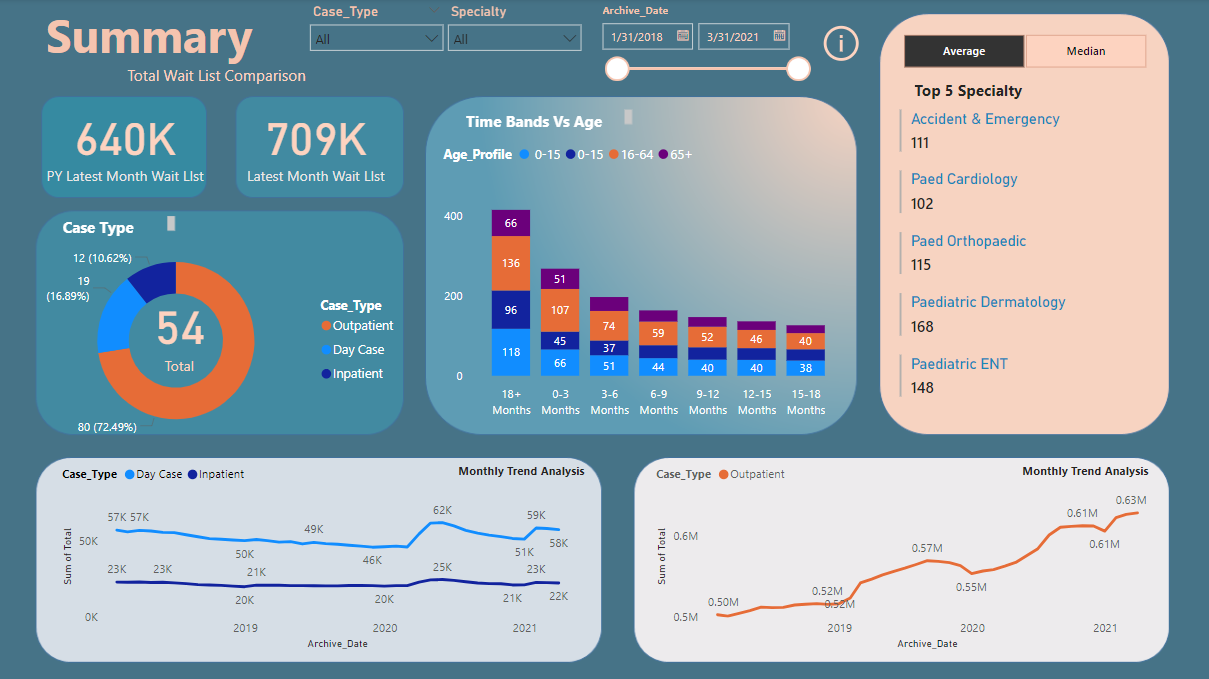

This screenshot's page, from the dashboard's own definition file:
{"tool":"powerbi","page":{"name":"Summary","canvas":[1280,720],"ordinal":0},"visuals":[{"type":"card","fields":{"Values":["All_data.Latest Month Wakit LIst"]},"box":[240,96,192,112],"z":0},{"type":"card","fields":{"Values":["All_data.PY Latest Month Wait LIst"]},"box":[48,96,176,112],"z":1000},{"type":"slicer","fields":{"Values":["Calculated Method.Calc method"]},"box":[928,32,304,48],"z":2000},{"type":"donutChart","fields":{"Category":["All_data.Case_Type"],"Y":["All_data.Avg/Med Wait List"]},"box":[32,240,400,240],"z":3000},{"type":"columnChart","title":"Time_Bands Vs Age_Profile","fields":{"Category":["All_data.Time_Bands"],"Y":["All_data.Avg/Med Wait List"],"Series":["All_data.Age_Profile"]},"box":[464,144,432,304],"z":4000},{"type":"multiRowCard","fields":{"Values":["All_data.Specialty","All_data.Avg/Med Wait List"]},"box":[944,112,272,336],"z":5000},{"type":"card","fields":{"Values":["All_data.1 NoDataLeft"]},"box":[168,504,312,144],"z":5500},{"type":"lineChart","fields":{"Category":["All_data.Archive_Date"],"Y":["Sum(All_data.Total)"],"Series":["All_data.Case_Type"]},"box":[64,480,544,208],"z":6000},{"type":"card","fields":{"Values":["All_data.NoDataright"]},"box":[792,504,312,144],"z":7000},{"type":"lineChart","fields":{"Category":["All_data.Archive_Date"],"Y":["Sum(All_data.Total)"],"Series":["All_data.Case_Type"]},"box":[688,480,528,208],"z":8000},{"type":"slicer","fields":{"Values":["All_data.Archive_Date"]},"box":[624,0,240,96],"z":9000},{"type":"slicer","fields":{"Values":["All_data.Case_Type"]},"box":[320,0,160,64],"z":10000},{"type":"slicer","fields":{"Values":["All_data.Specialty"]},"box":[464,0,160,64],"z":11000},{"type":"textbox","box":[48,0,288,112],"z":12000},{"type":"card","fields":{"Values":["All_data.Avg/Med Wait List"]},"box":[96,304,192,96],"z":13000},{"type":"textbox","box":[128,64,208,32],"z":14000},{"type":"textbox","box":[464,112,208,32],"z":15000},{"type":"textbox","box":[64,224,128,32],"z":16000},{"type":"textbox","box":[960,80,144,32],"z":17000},{"type":"textbox","box":[480,480,160,32],"z":18000},{"type":"textbox","box":[1072,480,144,48],"z":19000},{"type":"actionButton","box":[840,24,96,48],"z":19001}]}

Visuals, with their boxes in screenshot pixels (x1, y1, x2, y2), scaled from the page's 1280x720 canvas onto the 1209x679 screenshot:
card - All_data.Latest Month Wakit LIst: rect(227, 91, 408, 196)
card - All_data.PY Latest Month Wait LIst: rect(45, 91, 212, 196)
slicer - Calculated Method.Calc method: rect(877, 30, 1164, 75)
donutChart - All_data.Case_Type x All_data.Avg/Med Wait List: rect(30, 226, 408, 453)
"Time_Bands Vs Age_Profile" columnChart: rect(438, 136, 846, 422)
multiRowCard - All_data.Specialty x All_data.Avg/Med Wait List: rect(892, 106, 1149, 422)
card - All_data.1 NoDataLeft: rect(159, 475, 453, 611)
lineChart - All_data.Archive_Date x Sum(All_data.Total): rect(60, 453, 574, 649)
card - All_data.NoDataright: rect(748, 475, 1043, 611)
lineChart - All_data.Archive_Date x Sum(All_data.Total): rect(650, 453, 1149, 649)
slicer - All_data.Archive_Date: rect(589, 0, 816, 91)
slicer - All_data.Case_Type: rect(302, 0, 453, 60)
slicer - All_data.Specialty: rect(438, 0, 589, 60)
textbox: rect(45, 0, 317, 106)
card - All_data.Avg/Med Wait List: rect(91, 287, 272, 377)
textbox: rect(121, 60, 317, 91)
textbox: rect(438, 106, 635, 136)
textbox: rect(60, 211, 181, 241)
textbox: rect(907, 75, 1043, 106)
textbox: rect(453, 453, 604, 483)
textbox: rect(1013, 453, 1149, 498)
actionButton: rect(793, 23, 884, 68)
